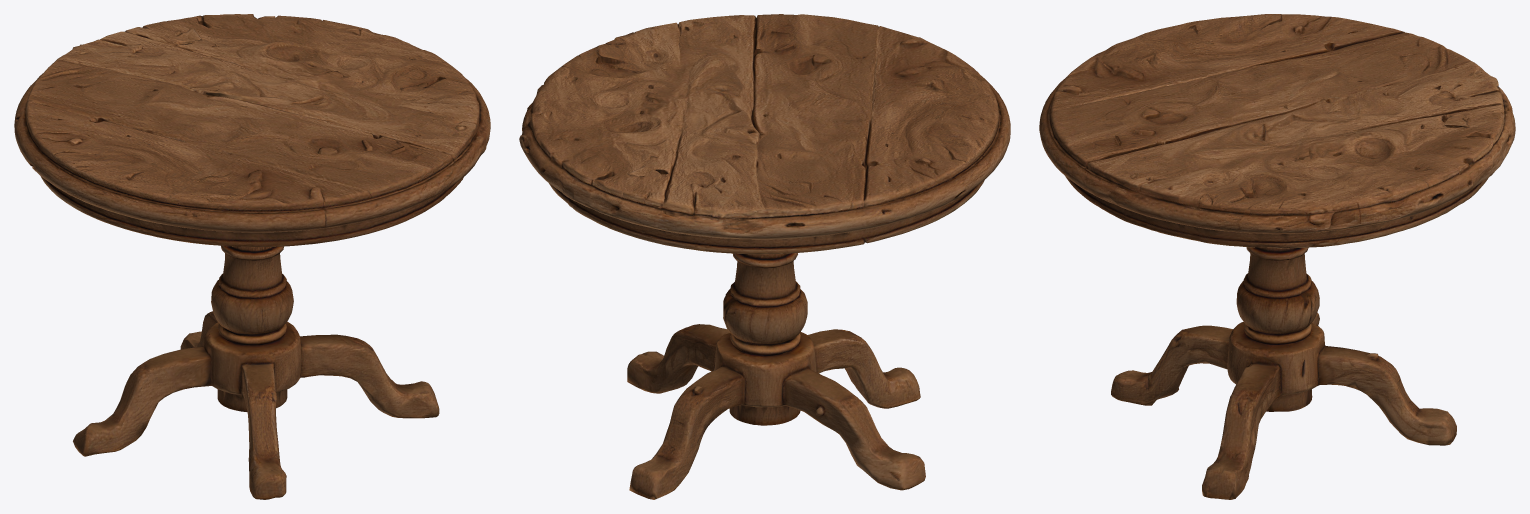
The model's file is scene-round-table-v03.glb.
3 renders of one model, left to right at view 1: azimuth 30°, elevation 25°; view 2: azimuth 150°, elevation 25°; view 3: azimuth 270°, elevation 25°, orthographic. The views are drawn at different scales.
Visible parts, largest first — view 1: tripo_node_3db8e100-cb50-43e6-9036-c9d4adcaad28; view 2: tripo_node_3db8e100-cb50-43e6-9036-c9d4adcaad28; view 3: tripo_node_3db8e100-cb50-43e6-9036-c9d4adcaad28.
Boxes of the visible parts, left/top/right/bottom form: tripo_node_3db8e100-cb50-43e6-9036-c9d4adcaad28: left=14, top=14, right=490, bottom=499; tripo_node_3db8e100-cb50-43e6-9036-c9d4adcaad28: left=519, top=14, right=1010, bottom=499; tripo_node_3db8e100-cb50-43e6-9036-c9d4adcaad28: left=1039, top=14, right=1515, bottom=499.
Bounding box in the file's own units: 1.02 × 0.76 × 1.02.
Materials: 1 (1 with a texture image).
